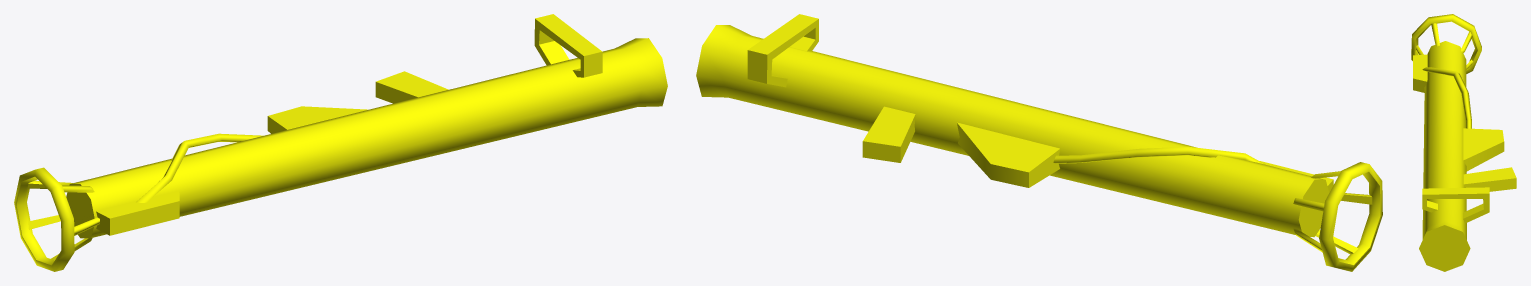
Rendered from weapon_bazooka.glb.
3 views of the same model, side by side, from view 1: azimuth 30°, elevation 25°; view 2: azimuth 150°, elevation 25°; view 3: azimuth 270°, elevation 25° (orthographic). The views are drawn at different scales.
Visible parts, largest first — view 1: weapon_bazooka; view 2: weapon_bazooka; view 3: weapon_bazooka.
Boxes of the visible parts, x1,y1,x2,y2 form: weapon_bazooka: (14,14,667,271); weapon_bazooka: (696,14,1382,271); weapon_bazooka: (1411,14,1516,271).
Size of the model in its own units: 2.43 by 0.3747 by 0.5345.
1 material, 1 textured.
